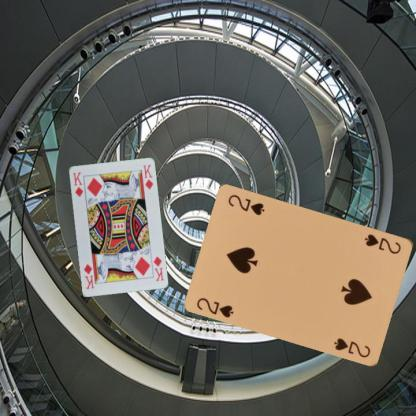2s: (194, 295, 235, 319), (362, 231, 402, 255)
Kd: (70, 169, 84, 198), (151, 254, 165, 282)
